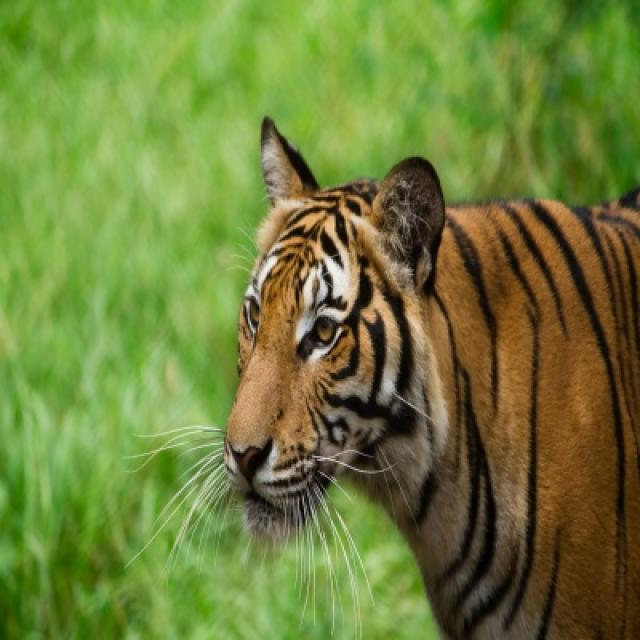Tiger: (225, 114, 634, 633)
